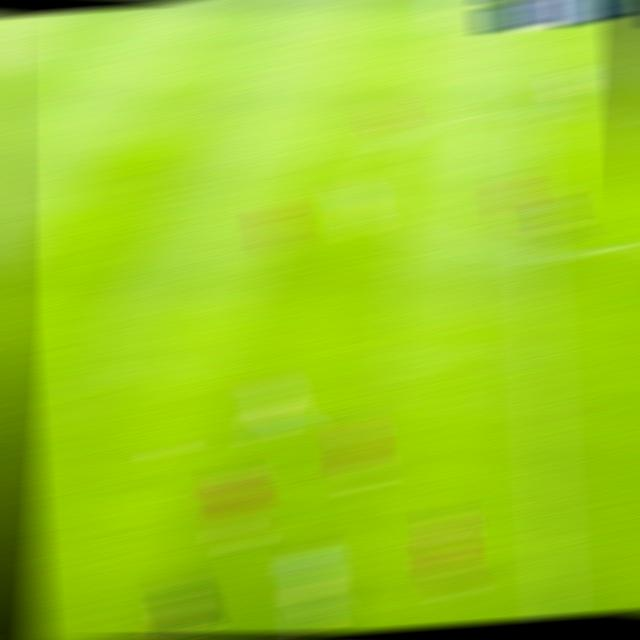bigarea_top_inner: (7, 41, 46, 64)
halfcircle_bottom: (515, 239, 562, 272)
halfcircle_top: (505, 93, 556, 126)
